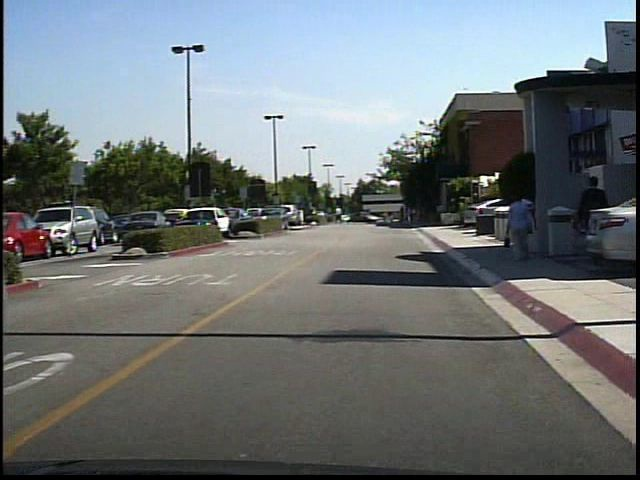person: (580, 171, 618, 266), (511, 189, 540, 266), (525, 189, 544, 262), (338, 203, 349, 227)
